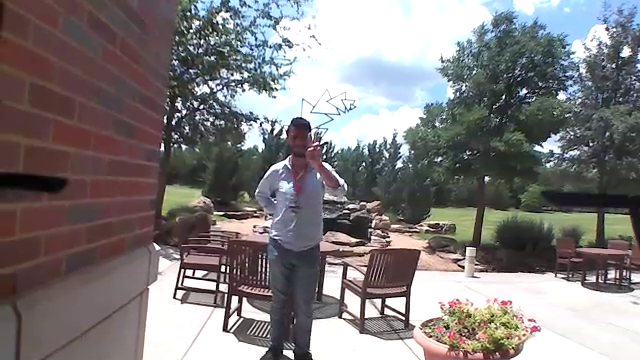peace: (301, 128, 328, 164)
